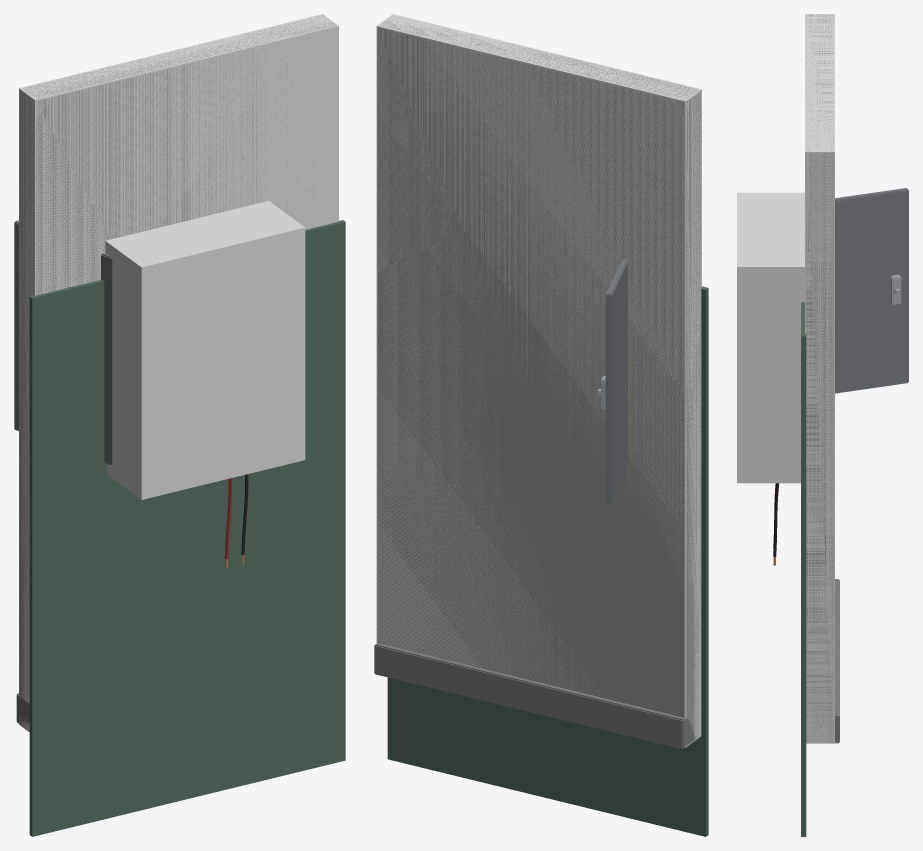
Rendered from panel_electric.glb.
3 views of the same model, side by side, from view 1: azimuth 30°, elevation 25°; view 2: azimuth 150°, elevation 25°; view 3: azimuth 270°, elevation 25° (orthographic). The views are drawn at different scales.
Parts seen in each view (by area): view 1: paint_band, wall-col, panel-col, wall, door_anim_leaf; view 2: wall, wall-col, paint_band, skirting, door_anim_leaf; view 3: wall-col, panel-col, door_anim_leaf, wall, paint_band, skirting.
Part boxes in pixels (x1,y1,x2,y2): paint_band: (29,220,345,836); wall-col: (19,14,338,731); panel-col: (105,201,305,499); wall: (19,16,337,726); door_anim_leaf: (14,220,112,464); wall: (378,16,700,737); wall-col: (376,14,701,747); paint_band: (387,286,708,836); skirting: (374,643,696,748); door_anim_leaf: (605,259,627,505); wall-col: (805,14,834,743); panel-col: (737,192,804,483); door_anim_leaf: (835,188,908,393); wall: (806,14,833,741); paint_band: (801,302,806,836); skirting: (835,579,839,743).
Bounding box in the file's own units: 1.34 × 3 × 0.684.
